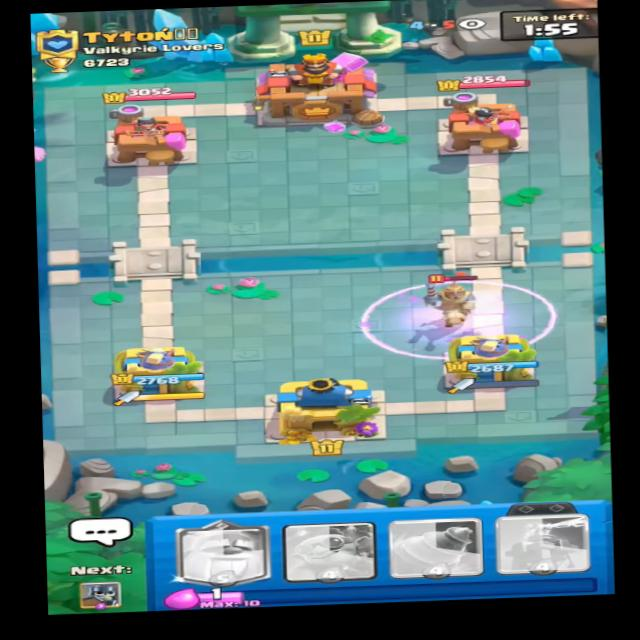Prince: (419, 275, 481, 328)
